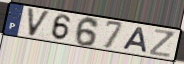6: (74, 16, 101, 48), (51, 14, 74, 42)
7: (104, 19, 124, 51)
A: (122, 26, 149, 54)
V: (26, 7, 52, 39)
Z: (149, 28, 176, 60)
